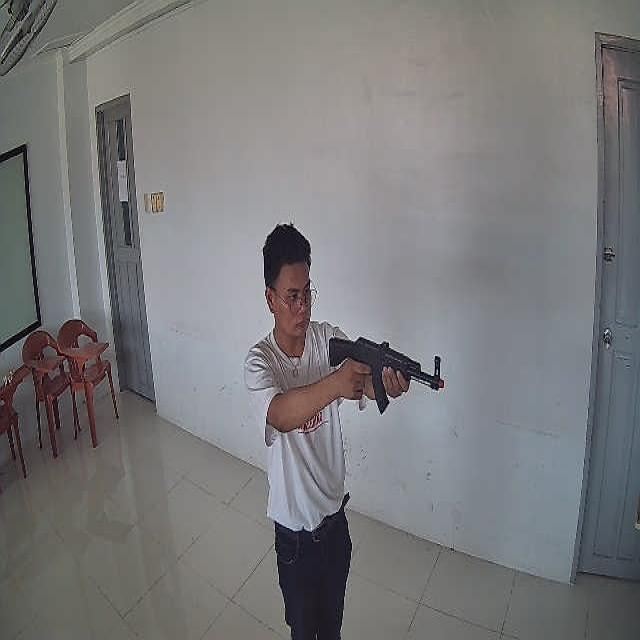rifle: (329, 337, 444, 415)
